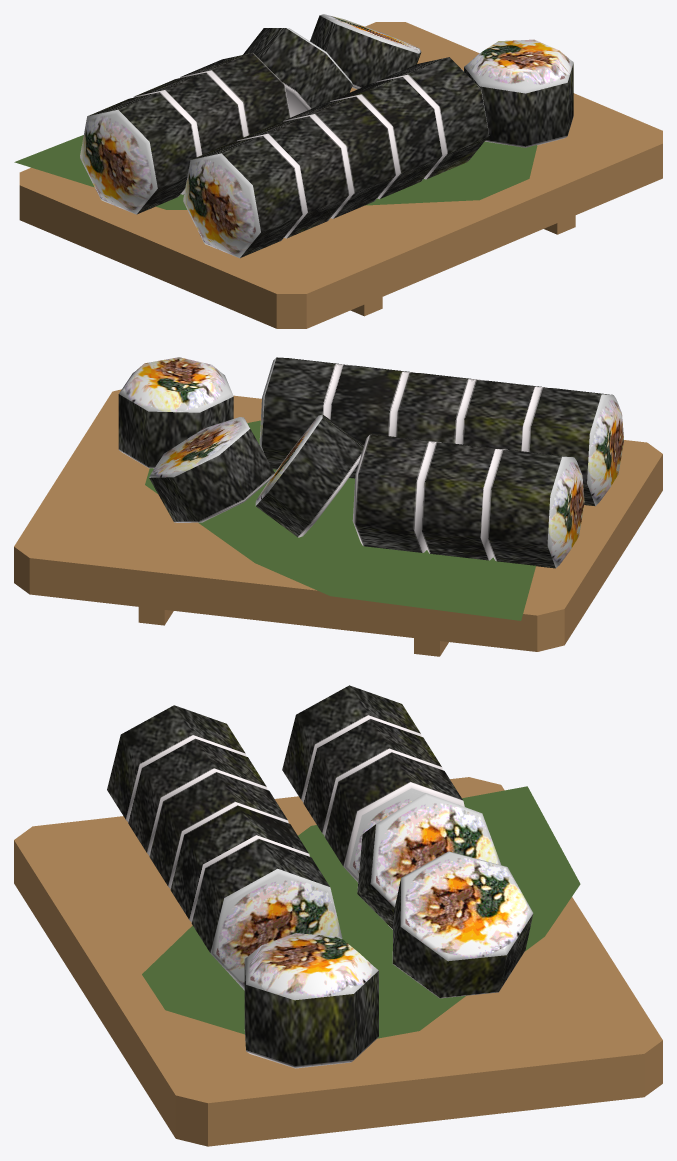
File: gim.glb
3 renders of one model, top to bottom at view 1: azimuth 30°, elevation 25°; view 2: azimuth 150°, elevation 25°; view 3: azimuth 270°, elevation 25°, orthographic. The views are drawn at different scales.
Visible parts, largest first — view 1: Cylinder.001, Cube.002, Plane; view 2: Cylinder.001, Cube.002, Plane; view 3: Cylinder.001, Cube.002, Plane.
Part boxes in pixels (x1,y1,x2,y2): Cylinder.001: (80, 14, 573, 258); Cube.002: (19, 22, 662, 328); Plane: (14, 135, 537, 209); Cylinder.001: (118, 357, 623, 568); Cube.002: (14, 389, 662, 656); Plane: (145, 420, 535, 620); Cylinder.001: (107, 685, 533, 1068); Cube.002: (14, 777, 662, 1146); Plane: (142, 786, 580, 1038).
Bounding box in the file's own units: 0.5938 × 0.1773 × 0.4992.
Materials: 3 (1 with a texture image).
